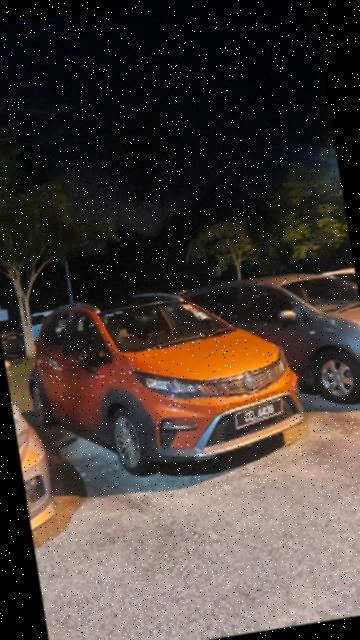License_Plate: (232, 399, 288, 432)
car: (15, 268, 312, 493), (175, 258, 360, 431)
